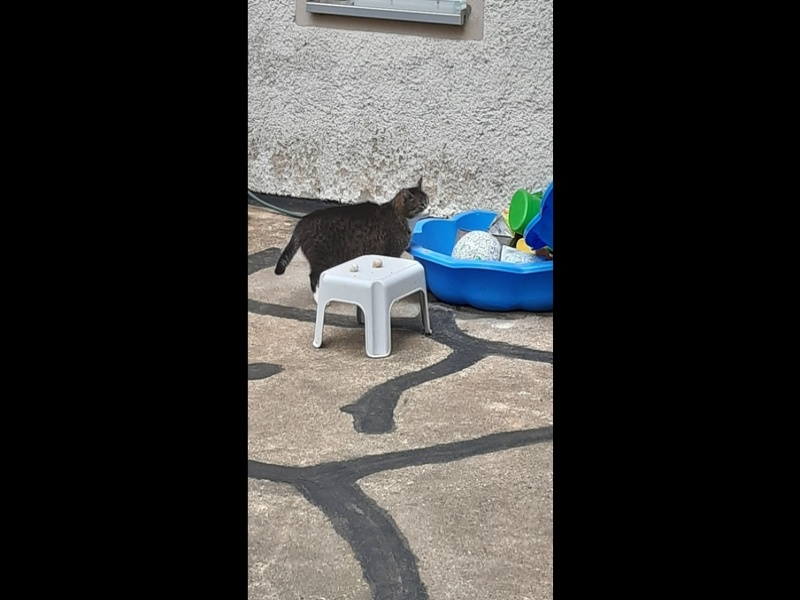cat: (271, 173, 434, 313)
